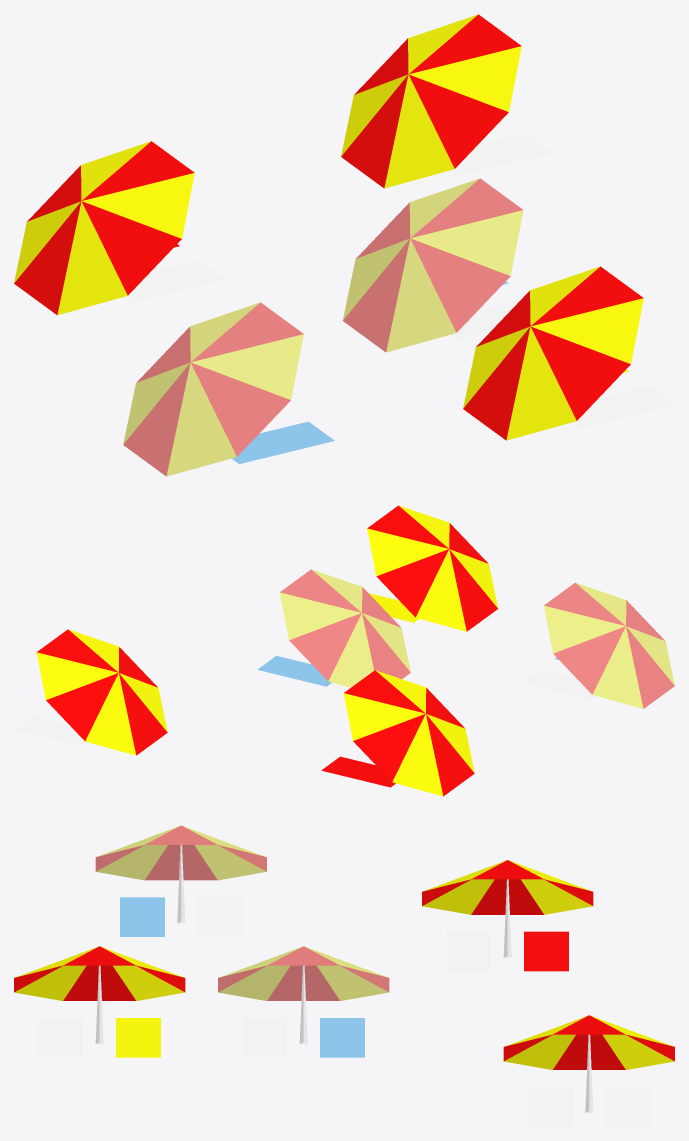
The model's file is uvmd-0035.glb.
The picture shows the model from 3 angles, top to bottom: view 1: azimuth 30°, elevation 25°; view 2: azimuth 150°, elevation 25°; view 3: azimuth 270°, elevation 25°; orthographic projection. The views are drawn at different scales.
Parts seen in each view (by area): view 1: uvmd-0035; view 2: uvmd-0035; view 3: uvmd-0035.
Boxes of the visible parts, bbox=[...] form: uvmd-0035: bbox=[14, 14, 674, 476]; uvmd-0035: bbox=[14, 505, 674, 796]; uvmd-0035: bbox=[14, 825, 674, 1126].
Size of the model in its own units: 147 by 25 by 162.
Materials: 1 (1 with a texture image).
